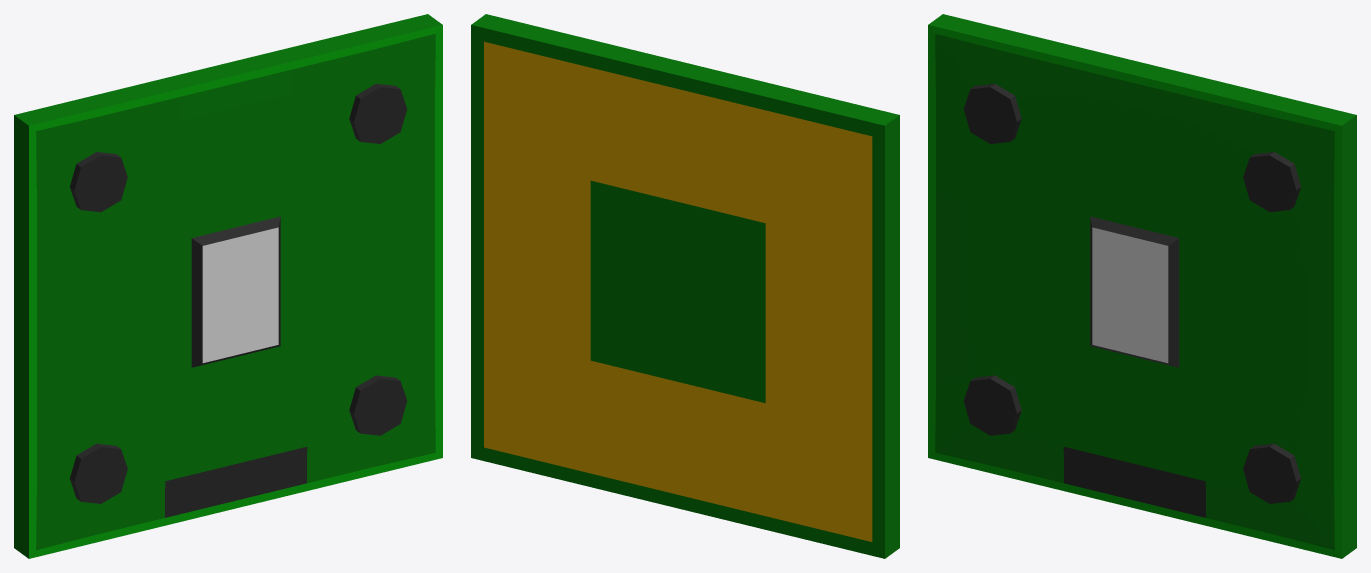
File: socketA_1_amd.fbx
3 views of the same model, side by side, from view 1: azimuth 30°, elevation 25°; view 2: azimuth 150°, elevation 25°; view 3: azimuth 330°, elevation 25° (orthographic).
Visible parts, largest first — view 1: Plane.001; view 2: Plane.001; view 3: Plane.001.
Boxes of the visible parts, x1,y1,x2,y2 form: Plane.001: (14, 14, 442, 558); Plane.001: (471, 14, 899, 558); Plane.001: (928, 14, 1356, 558).
Bounding box in the file's own units: 34.74 × 34.74 × 2.89.
